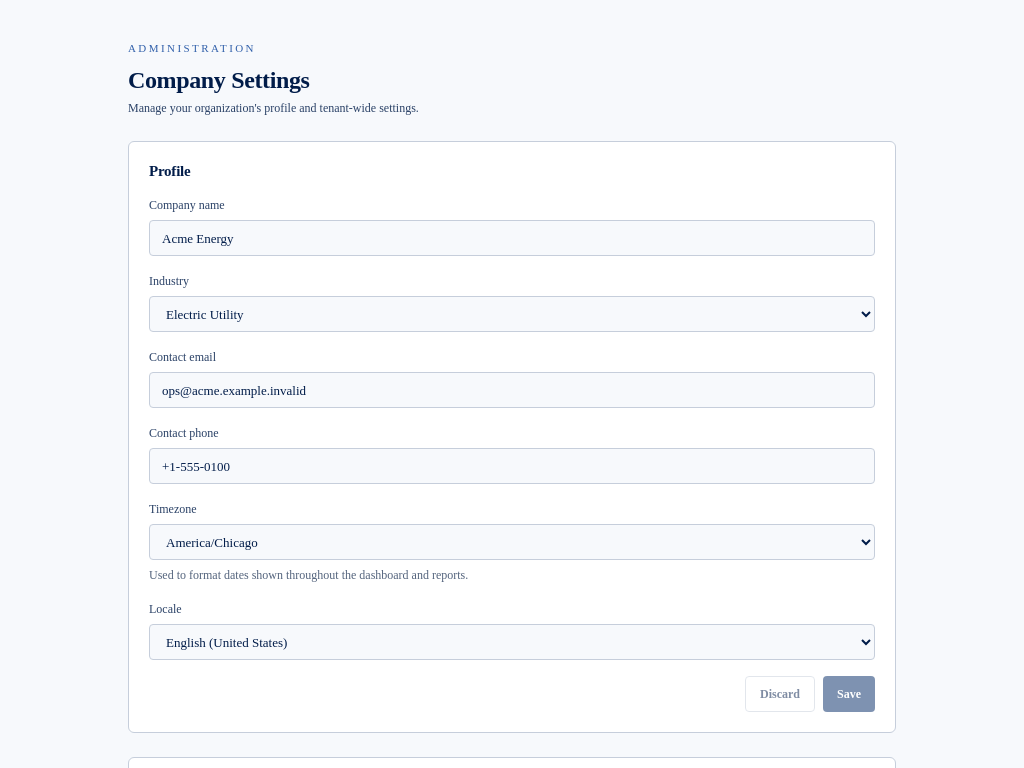
Test case: company settings page › rejects an empty company name before saving
Step 1. Replace the text in the field showing "Acme Energy" with "A" → (512, 238), box [149,220,875,256]
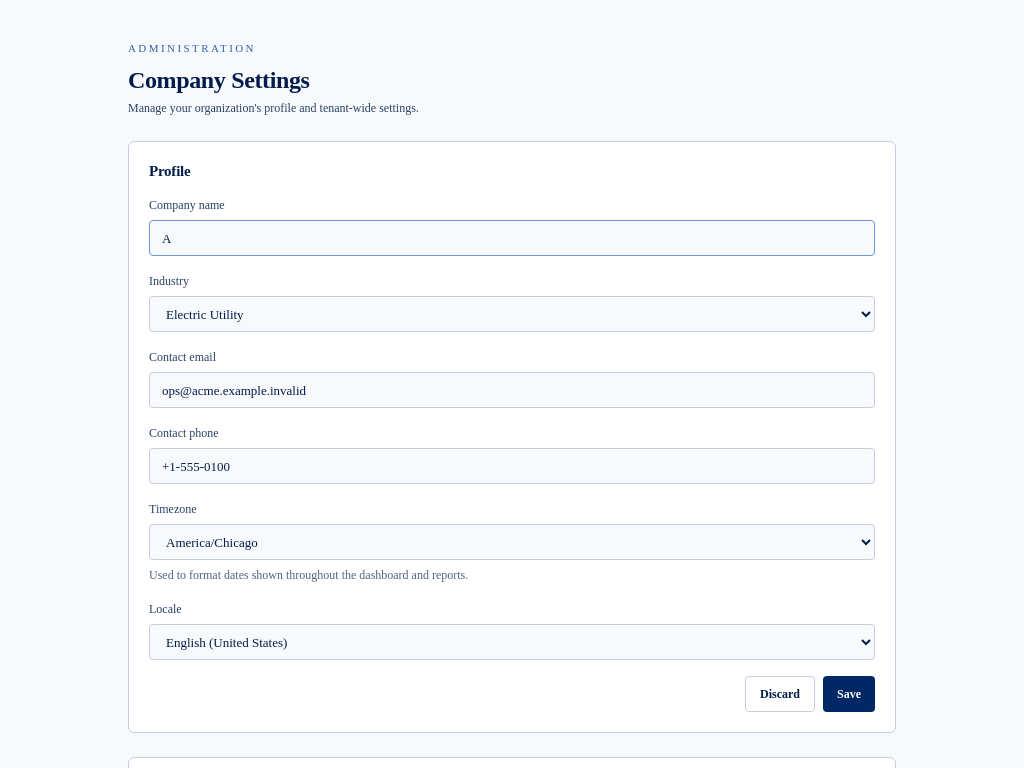
Step 2. Click the button "Save" → (849, 694), box [823,676,875,712]
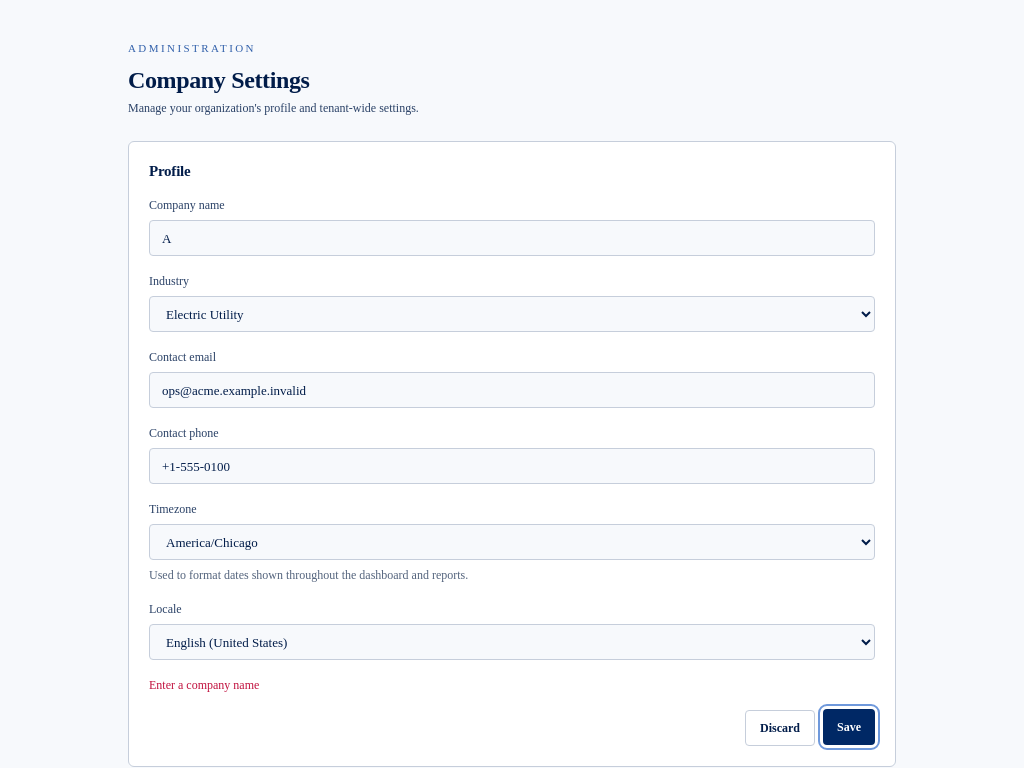
Expected: the text "Enter a company name" is shown, [149,678,259,692]
